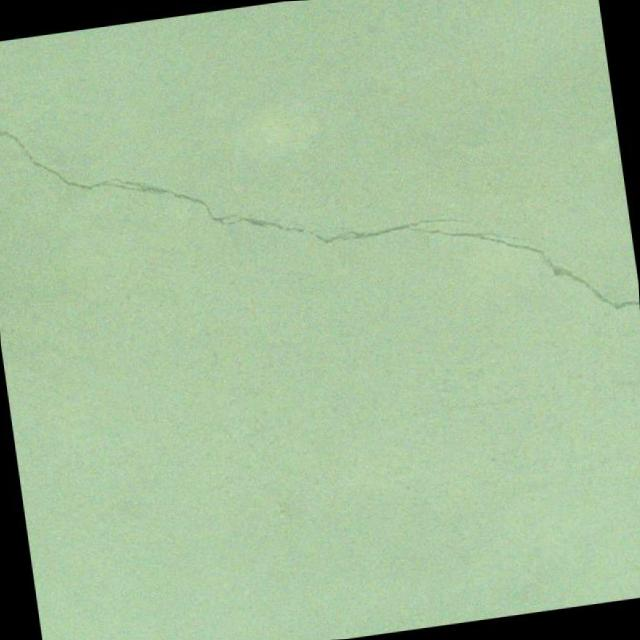crack: (0, 40, 640, 397), (0, 175, 41, 243), (377, 46, 404, 83), (344, 7, 358, 38), (417, 120, 436, 142), (349, 0, 363, 6)
